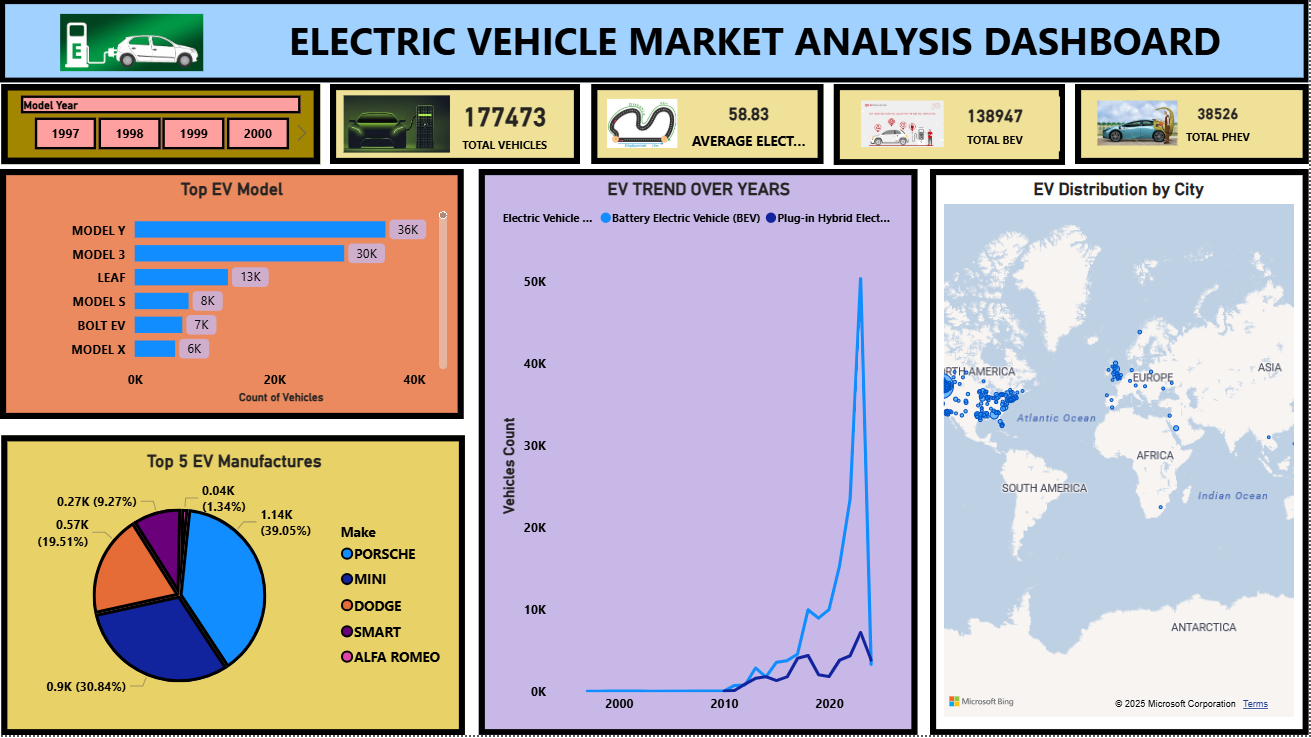

The page's visual inventory and layout, read from the dashboard file:
{"tool":"powerbi","page":{"name":"EV_DASHBOARD","canvas":[1280,720],"ordinal":0},"visuals":[{"type":"shape","box":[1051.6,83.2,228.7,78.3],"z":0},{"type":"shape","box":[578.4,83.2,227.4,78.3],"z":1000},{"type":"shape","box":[815.6,83.2,226.2,79.5],"z":2000},{"type":"shape","box":[322.8,83.2,244.6,78.3],"z":3000},{"type":"card","fields":{"Values":["ev_market ev_data.TOTAL VEHICLES"]},"box":[434.1,90.5,119.8,62.4],"z":4000},{"type":"card","fields":{"Values":["ev_market ev_data.TOTAL BEV"]},"box":[909.8,95.4,127.2,53.8],"z":5000},{"type":"card","fields":{"Values":["ev_market ev_data.TOTAL PHEV"]},"box":[1112.8,89.3,157.7,62.4],"z":6000},{"type":"card","fields":{"Values":["ev_market ev_data.AVERAGE ELECTRIC RANGE"]},"box":[667.7,92.9,129.6,57.5],"z":7000},{"type":"shape","box":[0,0,1280.3,81.9],"z":8000},{"type":"textbox","box":[206.7,9.8,1063.9,66],"z":9000},{"type":"image","box":[1.2,9.8,255.6,66],"z":10000},{"type":"image","box":[588.2,92.9,79.5,57.5],"z":11000},{"type":"image","box":[1068.8,90.5,88,62.4],"z":12000},{"type":"image","box":[837.6,90.5,90.5,63.6],"z":13000},{"type":"image","box":[331.4,78.3,113.7,88],"z":14000},{"type":"shape","box":[909.8,166.3,370.5,553.9],"z":15000},{"type":"shape","box":[468.3,166.3,429.2,553.9],"z":16000},{"type":"lineChart","title":"EV TREND OVER YEARS ","fields":{"Category":["ev_market ev_data.Model Year"],"Y":["CountNonNull(ev_market ev_data.VIN (1-10))"],"Series":["ev_market ev_data.Electric Vehicle Type"]},"box":[485.5,176.1,396.2,530.7],"z":17000},{"type":"map","title":"EV Distribution by City","fields":{"Category":["ev_market ev_data.City"],"Size":["CountNonNull(ev_market ev_data.VIN (1-10))"]},"box":[918.3,176.1,352.2,530.7],"z":18000},{"type":"shape","box":[0,166.3,453.7,244.6],"z":19000},{"type":"shape","box":[1.2,426.8,453.7,293.5],"z":20000},{"type":"barChart","title":"Top EV Model","fields":{"Y":["CountNonNull(ev_market ev_data.VIN (1-10))"],"Category":["ev_market ev_data.Model"]},"box":[11,176.1,431.7,225],"z":21000},{"type":"pieChart","title":"Top 5 EV Manufactures","fields":{"Category":["ev_market ev_data.Make"],"Y":["CountNonNull(ev_market ev_data.VIN (1-10))"]},"box":[13.5,441.4,431.7,265.4],"z":22000},{"type":"slicer","fields":{"Values":["ev_market ev_data.Model Year"]},"box":[1.2,83.2,311.8,78.3],"z":23000}]}

Visuals, with their boxes in screenshot pixels (x1, y1, x2, y2), scaled from the page's 1280x720 canvas onto the 1311x738 screenshot:
shape: bbox=(1077, 85, 1310, 166)
shape: bbox=(592, 85, 825, 166)
shape: bbox=(835, 85, 1067, 167)
shape: bbox=(331, 85, 581, 166)
card - ev_market ev_data.TOTAL VEHICLES: bbox=(445, 93, 567, 157)
card - ev_market ev_data.TOTAL BEV: bbox=(932, 98, 1062, 153)
card - ev_market ev_data.TOTAL PHEV: bbox=(1140, 92, 1301, 155)
card - ev_market ev_data.AVERAGE ELECTRIC RANGE: bbox=(684, 95, 817, 154)
shape: bbox=(0, 0, 1310, 84)
textbox: bbox=(212, 10, 1301, 78)
image: bbox=(1, 10, 263, 78)
image: bbox=(602, 95, 684, 154)
image: bbox=(1095, 93, 1185, 157)
image: bbox=(858, 93, 951, 158)
image: bbox=(339, 80, 456, 170)
shape: bbox=(932, 170, 1310, 737)
shape: bbox=(480, 170, 919, 737)
"EV TREND OVER YEARS " lineChart: bbox=(497, 181, 903, 724)
"EV Distribution by City" map: bbox=(941, 181, 1301, 724)
shape: bbox=(0, 170, 465, 421)
shape: bbox=(1, 437, 466, 737)
"Top EV Model" barChart: bbox=(11, 181, 453, 411)
"Top 5 EV Manufactures" pieChart: bbox=(14, 452, 456, 724)
slicer - ev_market ev_data.Model Year: bbox=(1, 85, 321, 166)
